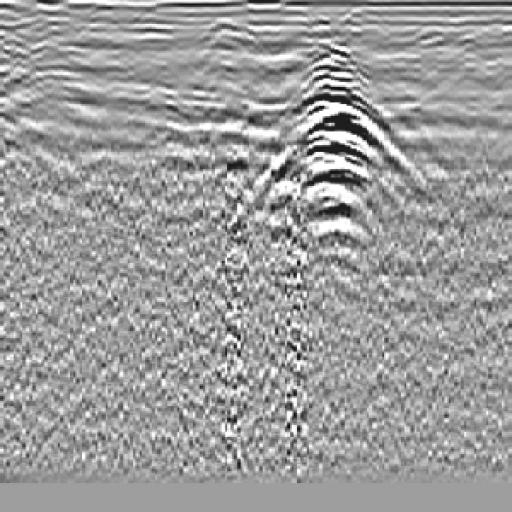metalic: (250, 23, 438, 278)
